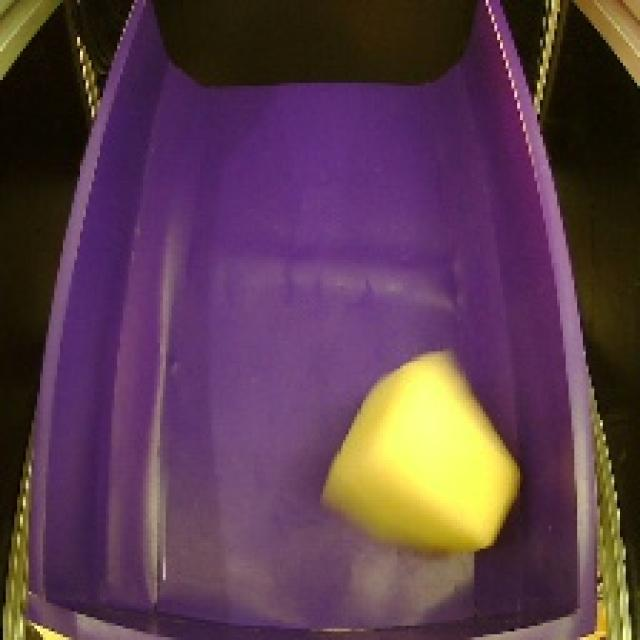potato: (313, 340, 530, 562)
